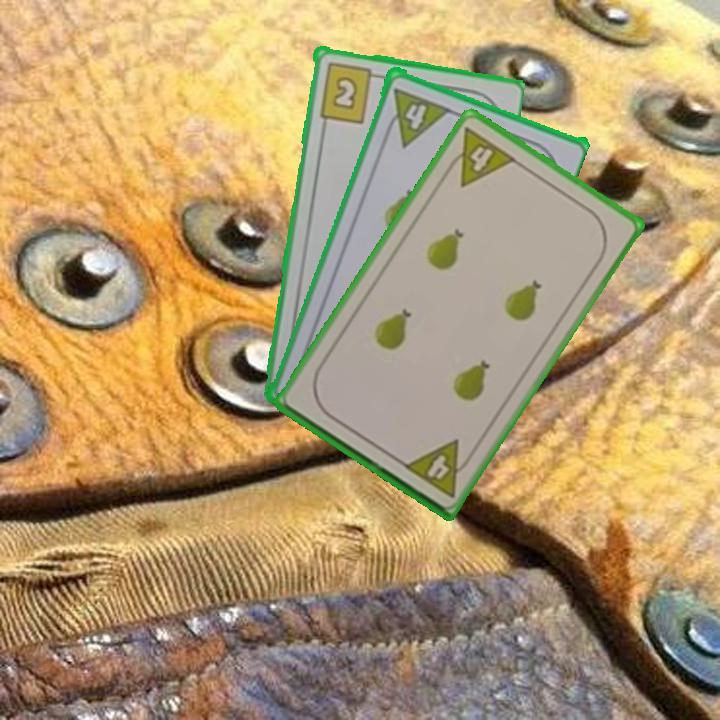2b: (316, 58, 383, 125)
4p: (440, 123, 519, 190), (399, 436, 477, 500), (401, 96, 450, 149)
